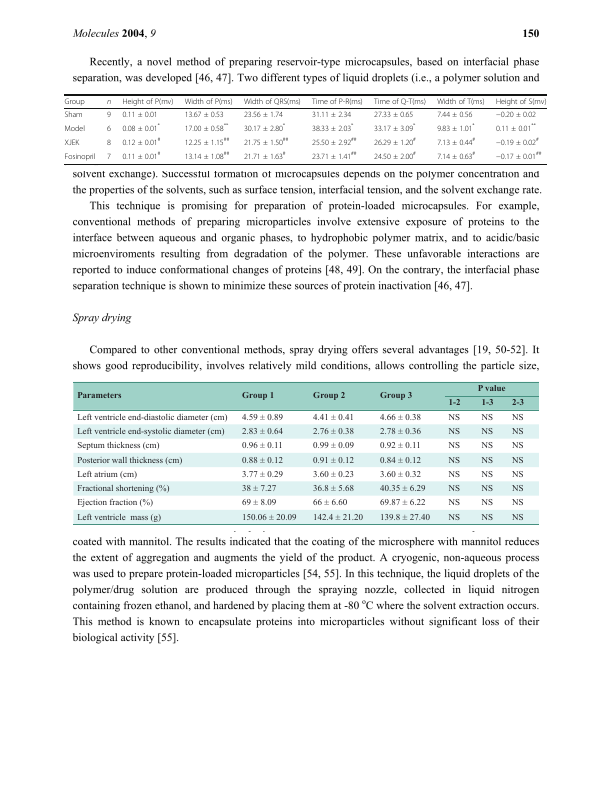borderless: (72, 380, 539, 524), (64, 93, 547, 164)
cell: (75, 413, 228, 423), (75, 427, 225, 437), (75, 456, 183, 466), (75, 484, 170, 494), (75, 441, 160, 452), (75, 513, 161, 523), (75, 498, 153, 509), (75, 470, 137, 480), (241, 513, 297, 523), (243, 97, 302, 106), (379, 498, 426, 509), (495, 150, 542, 161), (312, 513, 363, 523), (379, 513, 430, 523), (184, 136, 230, 147), (243, 136, 289, 147), (311, 136, 357, 147), (184, 150, 230, 161), (311, 150, 357, 161), (184, 122, 229, 133), (495, 136, 540, 147), (373, 97, 427, 106), (373, 136, 417, 147), (243, 150, 287, 161), (373, 150, 417, 161), (121, 97, 174, 106), (311, 97, 364, 106), (243, 122, 286, 133), (311, 122, 354, 133), (373, 122, 416, 133), (379, 484, 426, 494), (495, 97, 547, 106), (241, 441, 283, 452), (312, 441, 354, 452), (379, 441, 421, 452), (495, 122, 537, 133), (76, 392, 122, 402), (436, 97, 486, 106), (184, 97, 233, 106), (121, 122, 161, 133), (436, 122, 476, 133), (121, 136, 161, 147), (436, 136, 476, 147), (121, 150, 161, 161), (436, 150, 476, 161), (241, 413, 283, 423), (312, 413, 354, 423), (379, 413, 421, 423), (241, 427, 283, 437), (312, 427, 354, 437), (379, 427, 421, 437), (241, 456, 283, 466), (312, 456, 354, 466), (379, 456, 421, 466), (241, 470, 283, 480), (312, 470, 354, 480), (379, 470, 421, 480), (312, 484, 354, 494), (241, 498, 277, 509), (312, 498, 348, 509), (495, 110, 537, 119), (184, 110, 225, 119), (243, 110, 284, 119), (311, 110, 352, 119), (373, 110, 414, 119), (241, 484, 277, 494), (378, 392, 413, 402), (121, 110, 159, 119), (241, 392, 275, 402), (312, 392, 346, 402), (436, 110, 473, 119), (476, 385, 506, 395), (64, 152, 96, 161), (64, 124, 86, 133), (64, 97, 85, 106), (64, 110, 83, 119), (447, 441, 461, 452), (480, 441, 494, 452), (447, 498, 461, 509), (480, 498, 494, 509), (64, 138, 80, 147), (511, 441, 524, 452), (511, 498, 524, 509), (447, 399, 461, 409), (480, 399, 494, 409), (510, 399, 524, 409), (447, 413, 461, 423), (480, 413, 494, 423), (447, 427, 461, 437), (480, 427, 494, 437), (447, 456, 461, 466), (480, 456, 494, 466), (447, 470, 461, 480), (480, 470, 494, 480), (447, 484, 461, 494), (480, 484, 494, 494), (447, 513, 461, 523), (480, 513, 494, 523), (511, 413, 524, 423), (511, 427, 524, 437), (511, 456, 524, 466), (511, 470, 524, 480), (511, 484, 524, 494), (511, 513, 524, 523), (106, 110, 112, 119), (106, 124, 112, 133), (106, 138, 112, 147), (106, 152, 112, 161), (106, 99, 112, 105)
